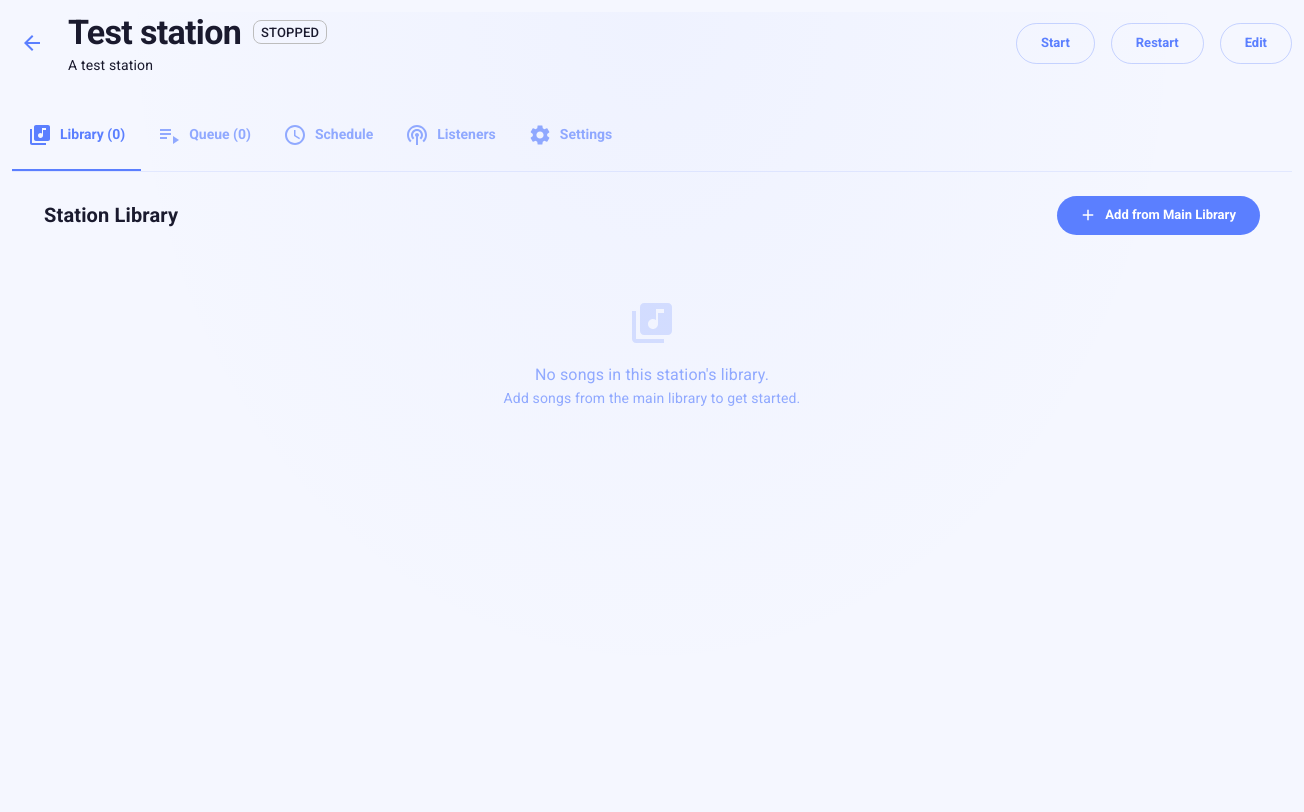
Test case: station stream controls › shows a failed command as an error, clears the spinner and permits retry without a success notification
Click the button "Start" at point(1055, 43), box [1016,23,1095,64]
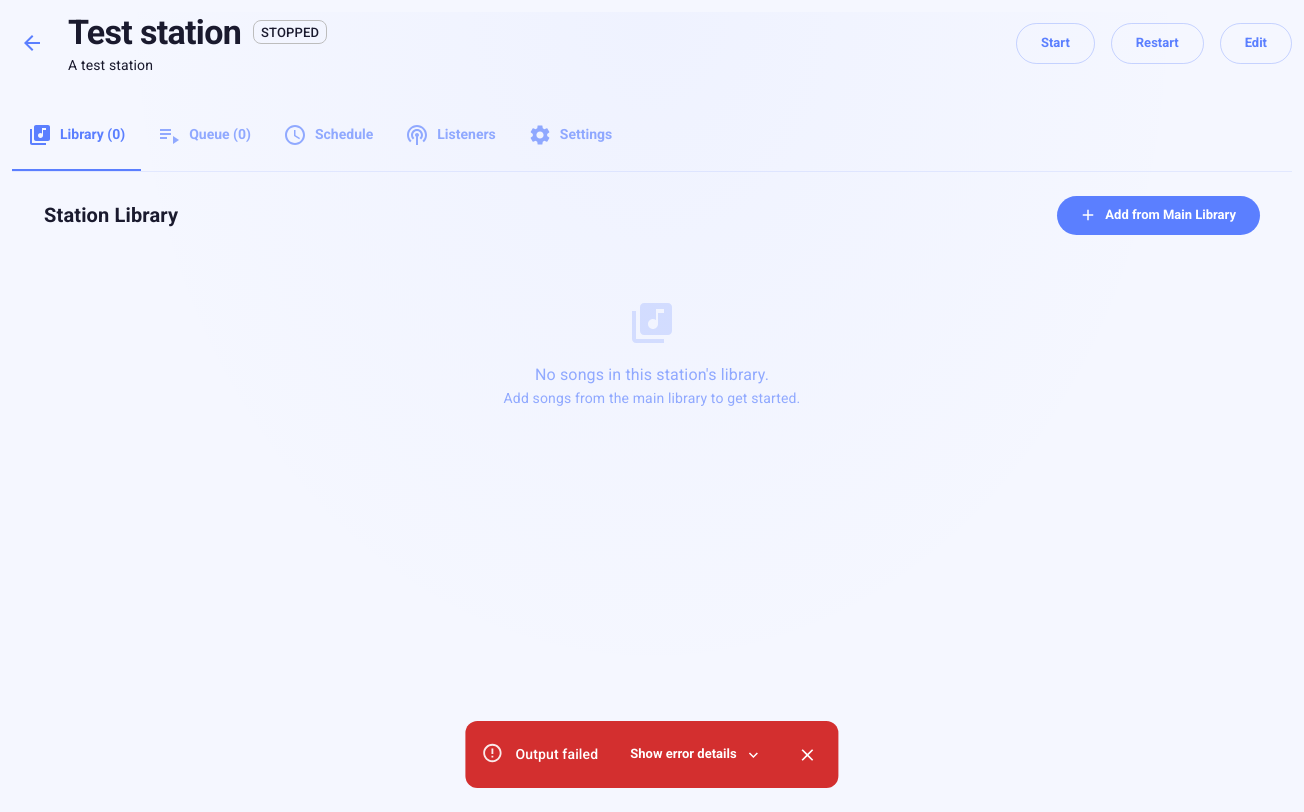
Check: the text "Output failed" is shown, box [515,744,598,765]
